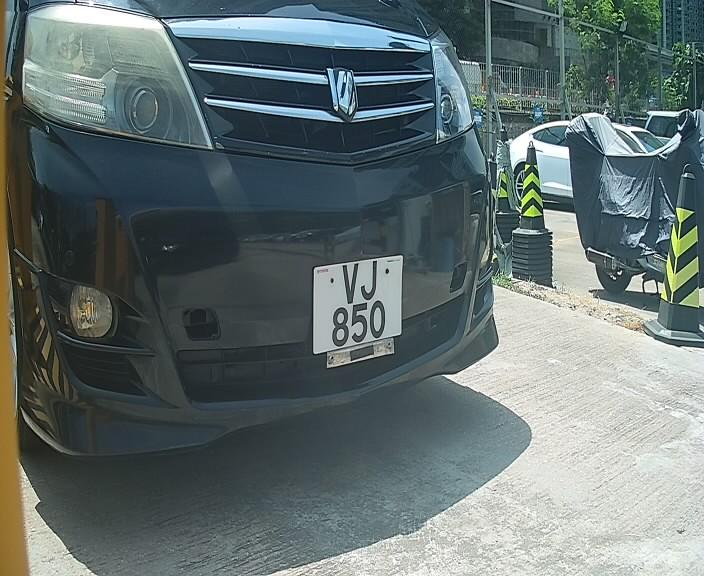Car: (13, 1, 535, 512)
License Plate: (305, 242, 409, 376)
